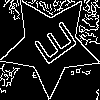E: (25, 20, 79, 73)
